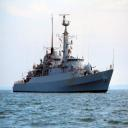Fragata: (13, 13, 116, 95)
